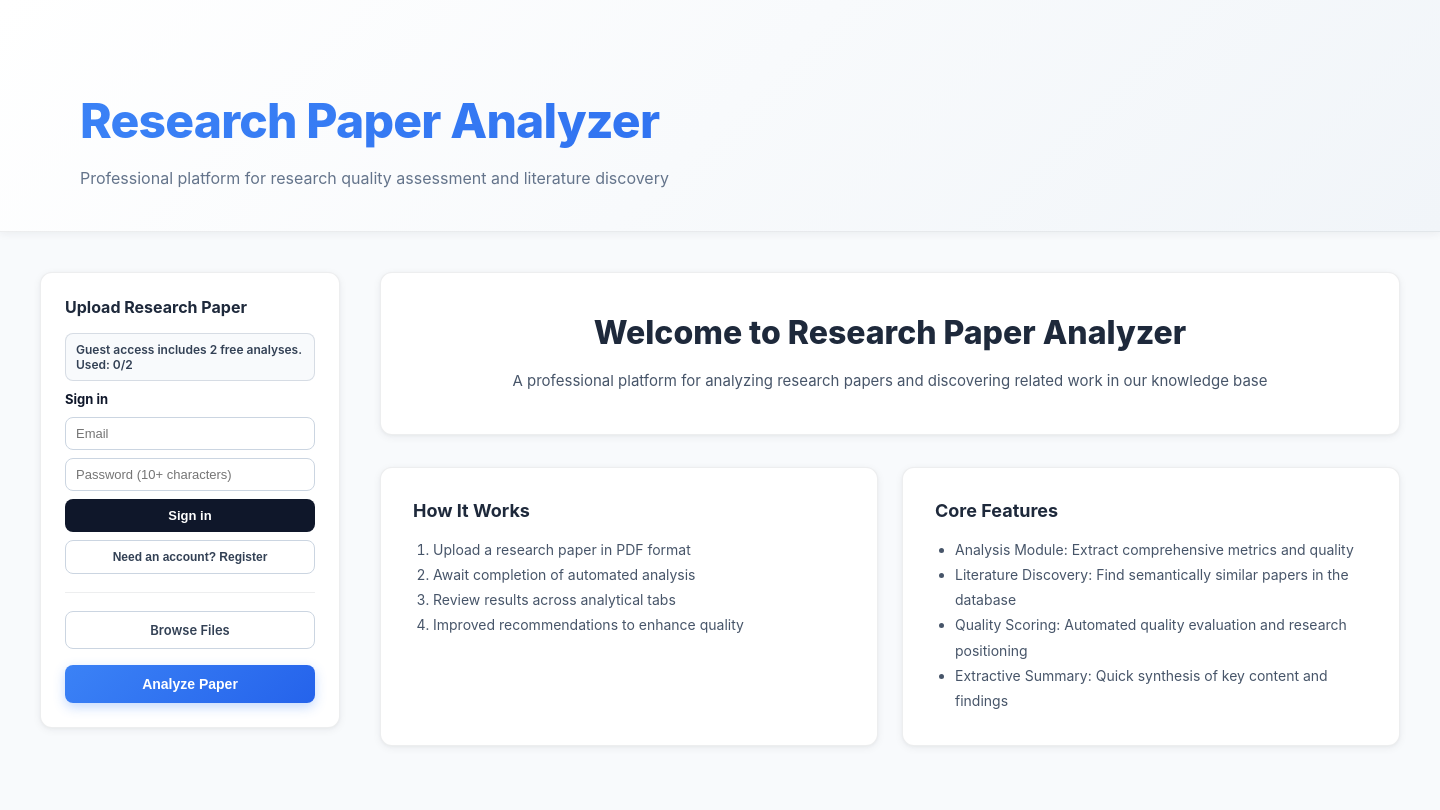
Test: App upload flow › shows error when no file is selected
Click the button "Analyze Paper" at {"x": 190, "y": 684}, box [65,665,315,703]
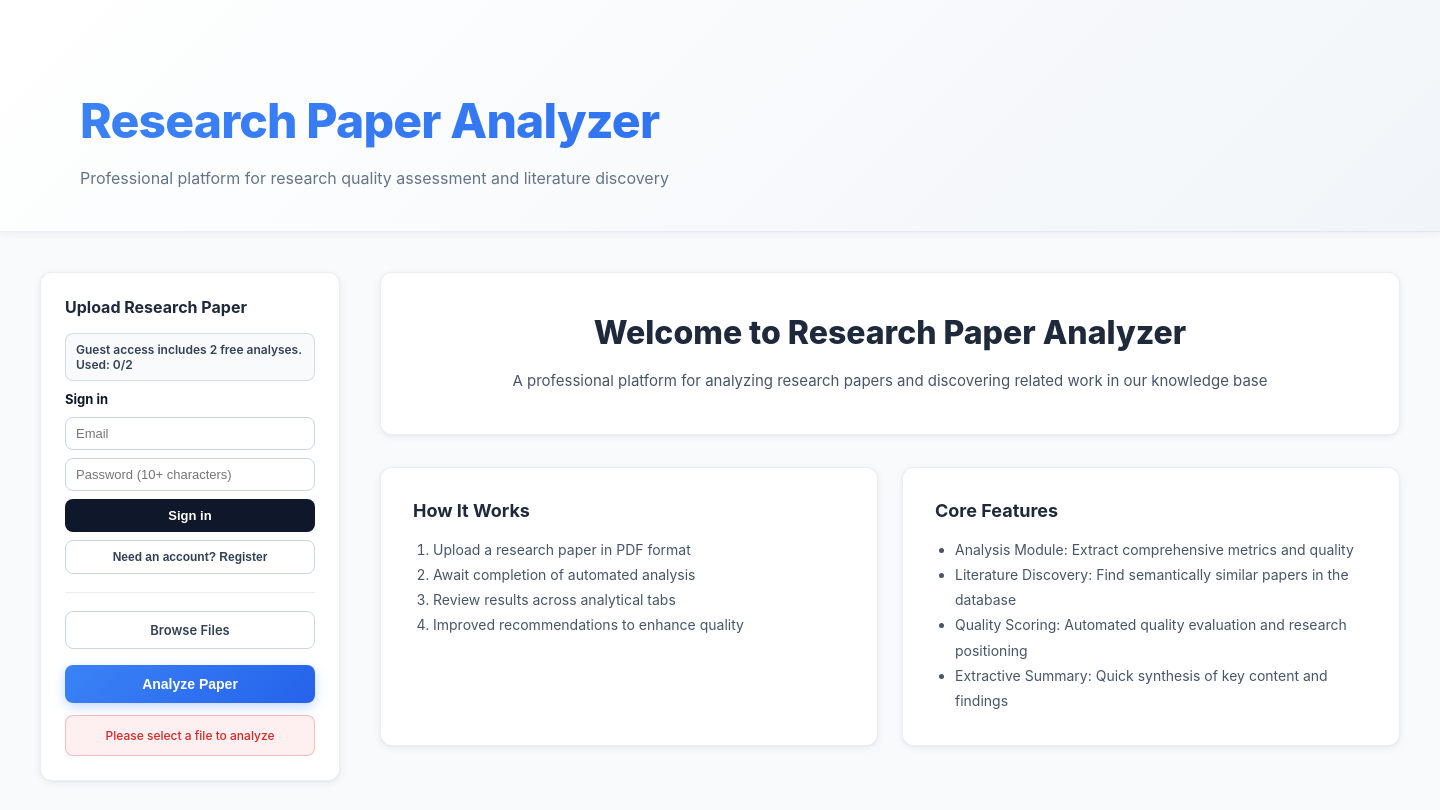
Now the text "Please select a file to analyze" is shown, box [65,715,315,756]
